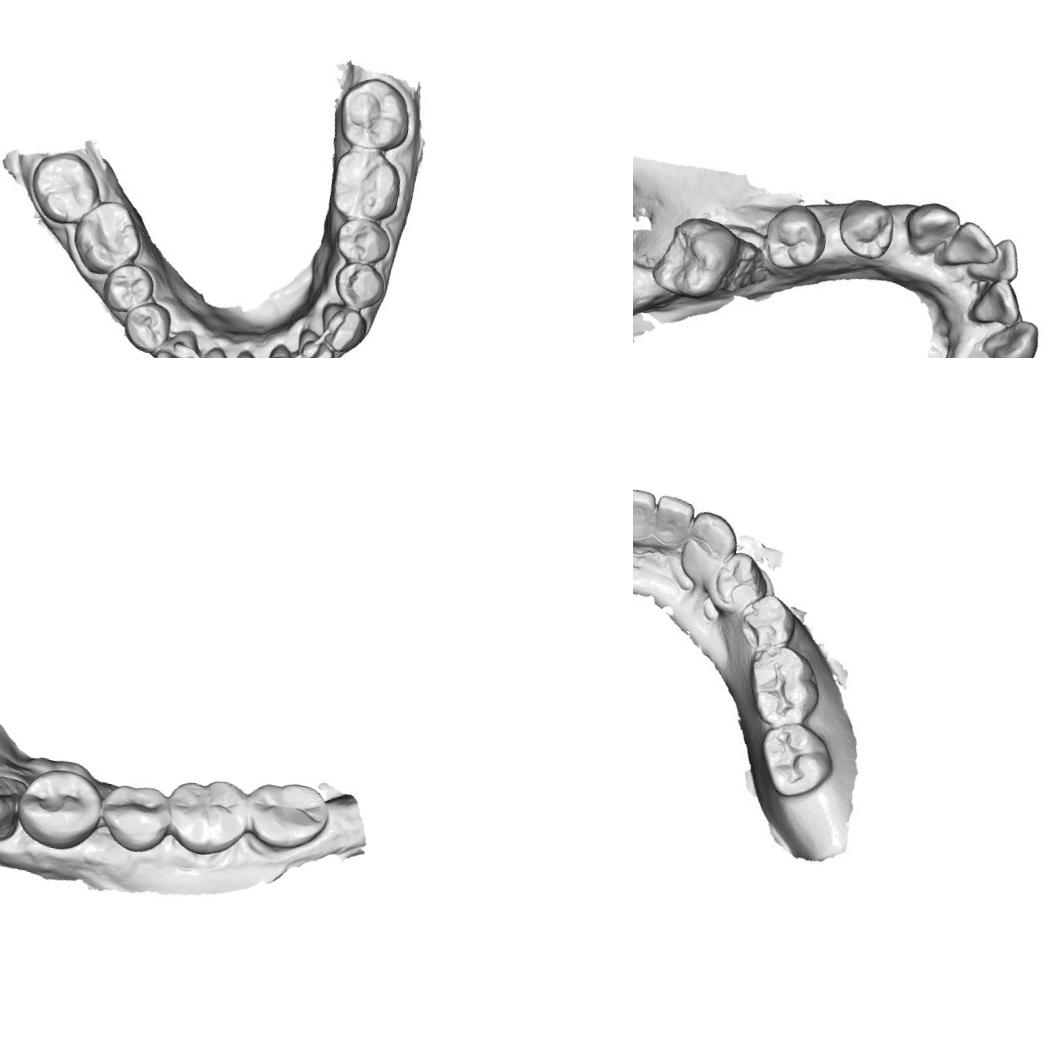canine: (900, 198, 963, 262), (684, 507, 741, 571), (978, 315, 1043, 358), (318, 302, 371, 353), (0, 760, 28, 845), (152, 326, 200, 358)
incisor: (644, 489, 700, 566), (946, 216, 1006, 280), (970, 227, 1024, 286), (966, 277, 1019, 330), (633, 481, 666, 565), (295, 327, 337, 358), (193, 341, 233, 358), (262, 344, 301, 358), (229, 347, 265, 358)
molar: (647, 208, 745, 306), (158, 769, 254, 863), (238, 773, 335, 859), (745, 718, 838, 806), (739, 640, 824, 732), (22, 146, 109, 228), (326, 144, 410, 228), (333, 74, 416, 154), (70, 201, 142, 276)
premolar: (10, 762, 109, 856), (94, 774, 176, 860), (758, 197, 832, 275), (732, 592, 798, 656), (838, 194, 900, 261), (327, 216, 395, 269), (711, 550, 765, 614), (330, 257, 388, 312), (104, 260, 157, 313), (122, 299, 171, 352)
